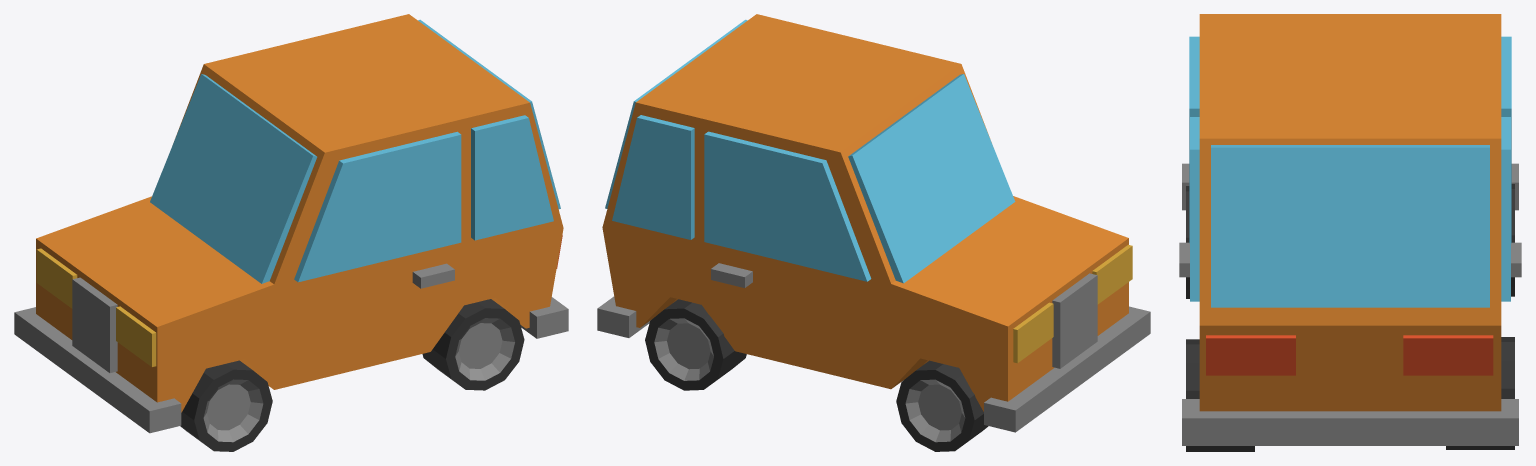
The model's file is carrr.fbx.
The picture shows the model from 3 angles, left to right: view 1: azimuth 30°, elevation 25°; view 2: azimuth 150°, elevation 25°; view 3: azimuth 270°, elevation 25°; orthographic projection. The views are drawn at different scales.
Parts seen in each view (by area): view 1: Cube; view 2: Cube; view 3: Cube.
Part boxes in pixels (bbox=[...]): Cube: bbox=[14, 14, 568, 451]; Cube: bbox=[597, 14, 1150, 451]; Cube: bbox=[1179, 14, 1521, 451].
Bounding box in the file's own units: 403 × 247 × 227.
